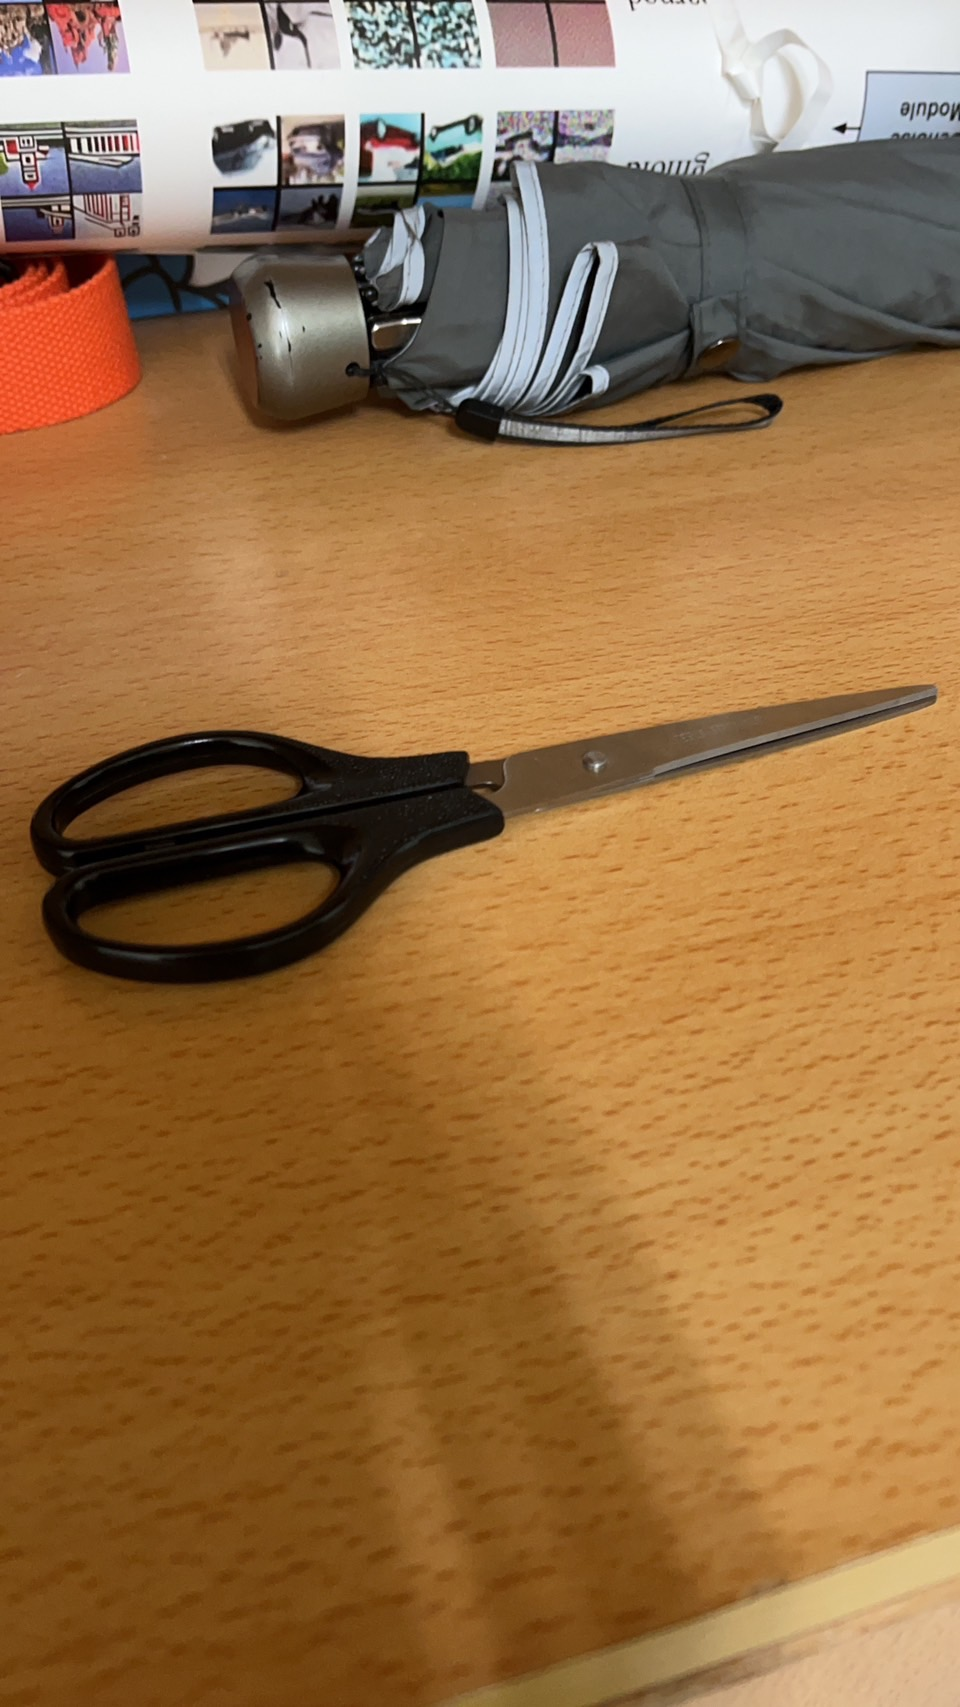scissor: (18, 665, 951, 998)
